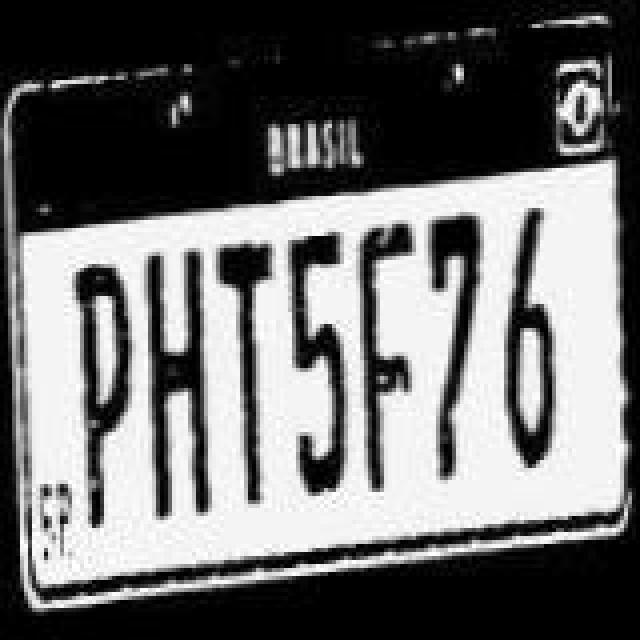5: (286, 206, 350, 514)
6: (490, 202, 562, 494)
7: (424, 208, 500, 500)
F: (350, 206, 430, 502)
H: (146, 232, 222, 540)
P: (72, 248, 136, 552)
T: (210, 218, 282, 522)
